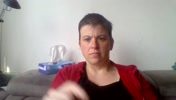Hand: (48, 73, 87, 100)
